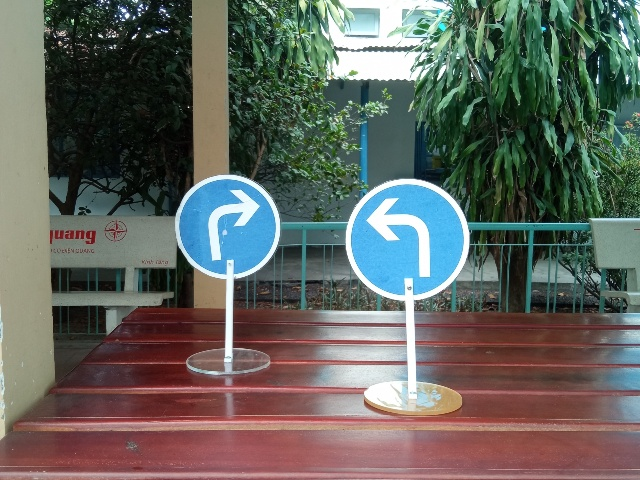Left_Sign: (346, 178, 470, 302)
Right_Sign: (174, 175, 282, 279)
